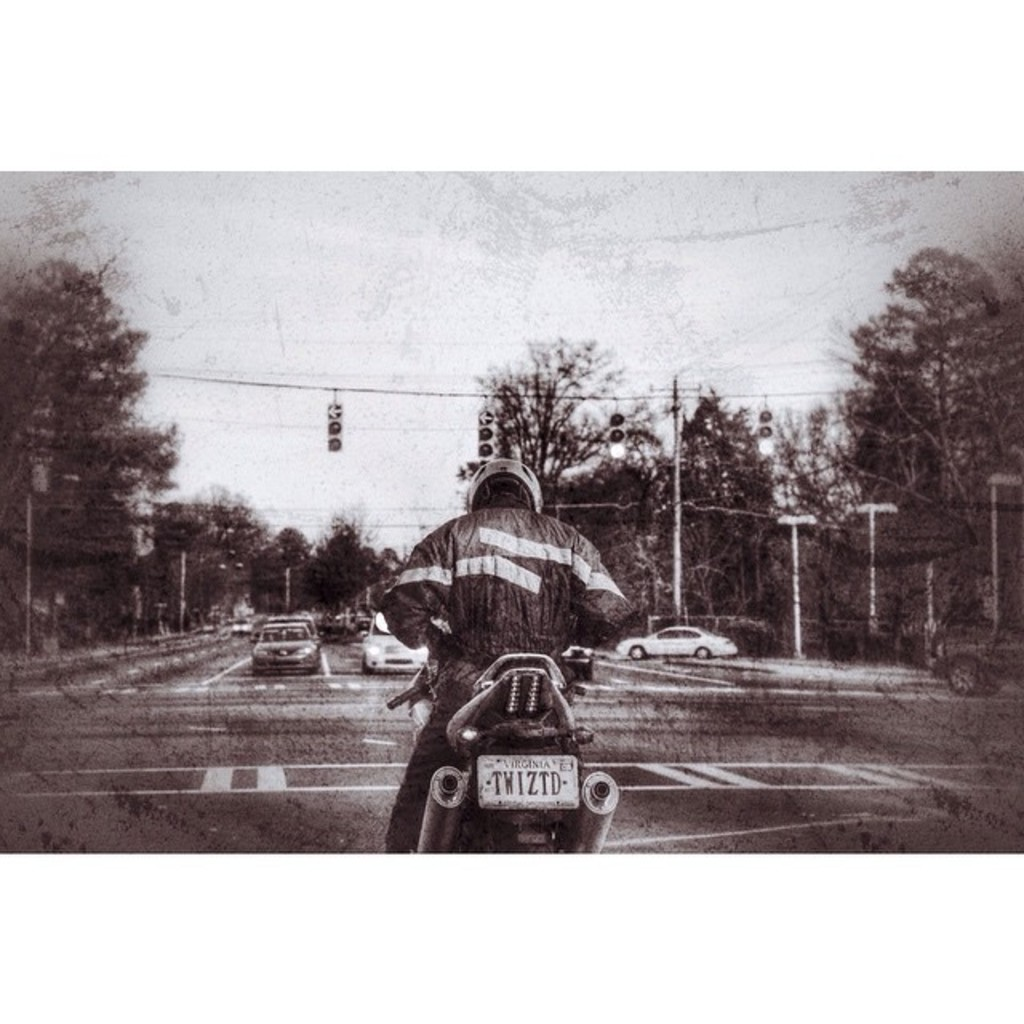Tree: (0, 254, 185, 657), (841, 244, 1022, 624), (476, 337, 651, 519), (659, 384, 775, 638), (550, 459, 692, 640), (764, 390, 870, 620), (180, 484, 275, 630), (134, 504, 224, 643), (312, 508, 391, 612), (263, 519, 321, 617), (377, 542, 403, 576)
